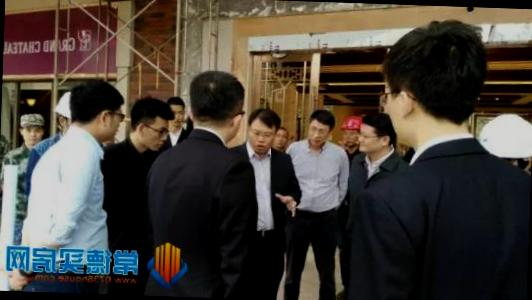no_helmet: (376, 19, 486, 147), (186, 65, 249, 142), (64, 74, 127, 146), (127, 93, 176, 155), (244, 104, 282, 157), (354, 112, 398, 157), (306, 106, 338, 148), (17, 108, 51, 146), (164, 92, 190, 134)
